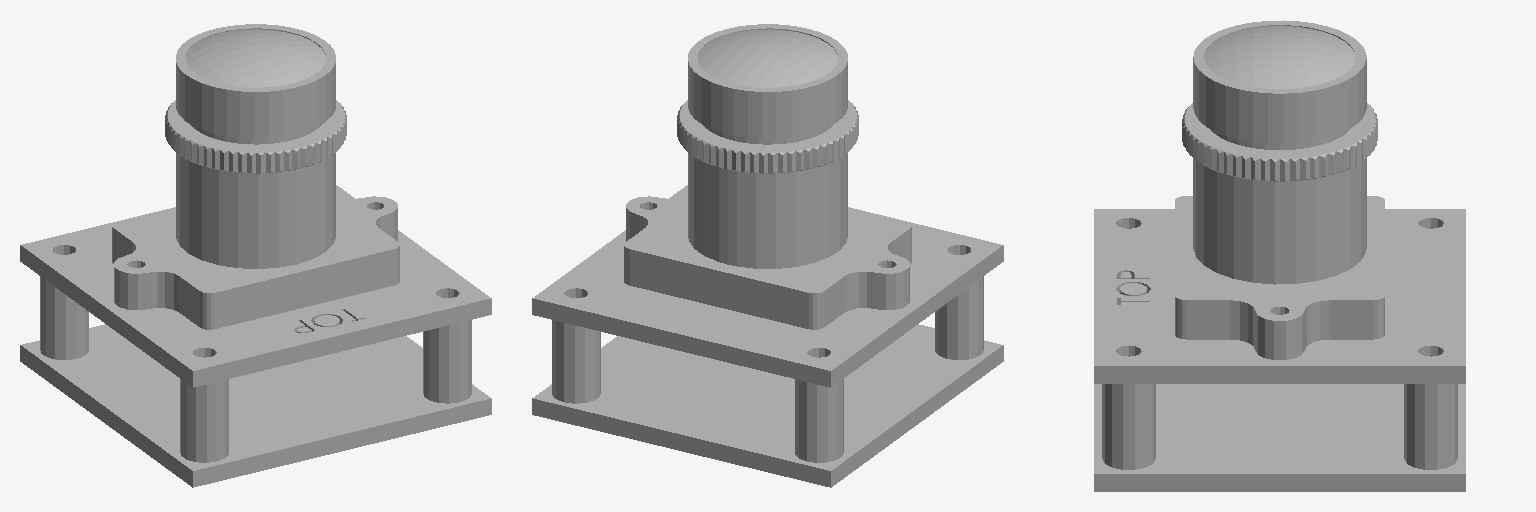
The robot description file, URDF, robot "E-Con-Camera_eCAM_urdf":
<?xml version="1.0" encoding="utf-8"?>
<!-- This URDF was automatically created by SolidWorks to URDF Exporter! Originally created by Stephen Brawner (brawner@gmail.com) 
     Commit Version: 1.6.0-4-g7f85cfe  Build Version: 1.6.7995.38578
     For more information, please see http://wiki.ros.org/sw_urdf_exporter -->
<robot
  name="E-Con-Camera_eCAM_urdf">
  <link
    name="eCon_cam_Base">
    <inertial>
      <origin
        xyz="-8.0128E-08 5.6084E-05 0.0021536"
        rpy="0 0 0" />
      <mass
        value="0.0072547" />
      <inertia
        ixx="5.5848E-07"
        ixy="-2.6892E-09"
        ixz="2.6219E-12"
        iyy="5.8448E-07"
        iyz="3.0268E-09"
        izz="6.8977E-07" />
    </inertial>
    <visual>
      <origin
        xyz="0 0 0"
        rpy="0 0 0" />
      <geometry>
        <mesh
          filename="package://E-Con-Camera_eCAM_urdf/meshes/eCon_cam_Base.STL" />
      </geometry>
      <material
        name="">
        <color
          rgba="0.75294 0.75294 0.75294 1" />
      </material>
    </visual>
    <collision>
      <origin
        xyz="0 0 0"
        rpy="0 0 0" />
      <geometry>
        <mesh
          filename="package://E-Con-Camera_eCAM_urdf/meshes/eCon_cam_Base.STL" />
      </geometry>
    </collision>
  </link>
</robot>

--- Facts derived from the render (not from the file) ---
The picture shows the robot from 3 angles, left to right: view 1: azimuth 30°, elevation 25°; view 2: azimuth 150°, elevation 25°; view 3: azimuth 270°, elevation 25°; orthographic projection.
Robot: E-Con-Camera_eCAM_urdf — 1 links, 0 joints (none); root link eCon_cam_Base; default pose: all joints at 0.
Visible links, largest first — view 1: eCon_cam_Base; view 2: eCon_cam_Base; view 3: eCon_cam_Base.
Link boxes in pixels (bbox=[...]): eCon_cam_Base: bbox=[20, 24, 491, 487]; eCon_cam_Base: bbox=[532, 24, 1003, 487]; eCon_cam_Base: bbox=[1094, 20, 1465, 491].
Size in the robot's own frame: 0.03 by 0.03 by 0.0336 metres.
Meshes: 1 distinct files referenced, 1 mesh visuals loaded (1 binary STL).
